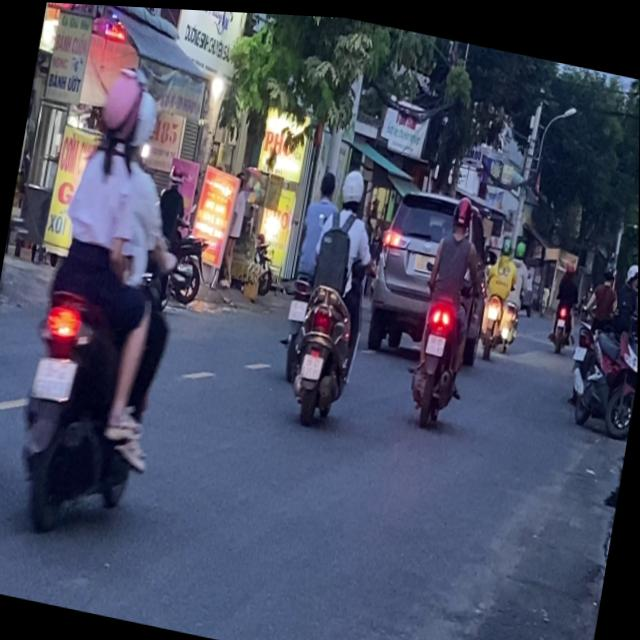helmet: (91, 64, 150, 162), (338, 162, 367, 208), (449, 189, 475, 231)
licenseplate: (2, 50, 213, 554), (279, 156, 388, 429), (402, 184, 492, 427), (273, 157, 344, 381)
motorcyclist: (317, 165, 338, 198)
nohelmet: (31, 353, 77, 403), (300, 349, 324, 377), (426, 329, 446, 352), (288, 295, 308, 318)
